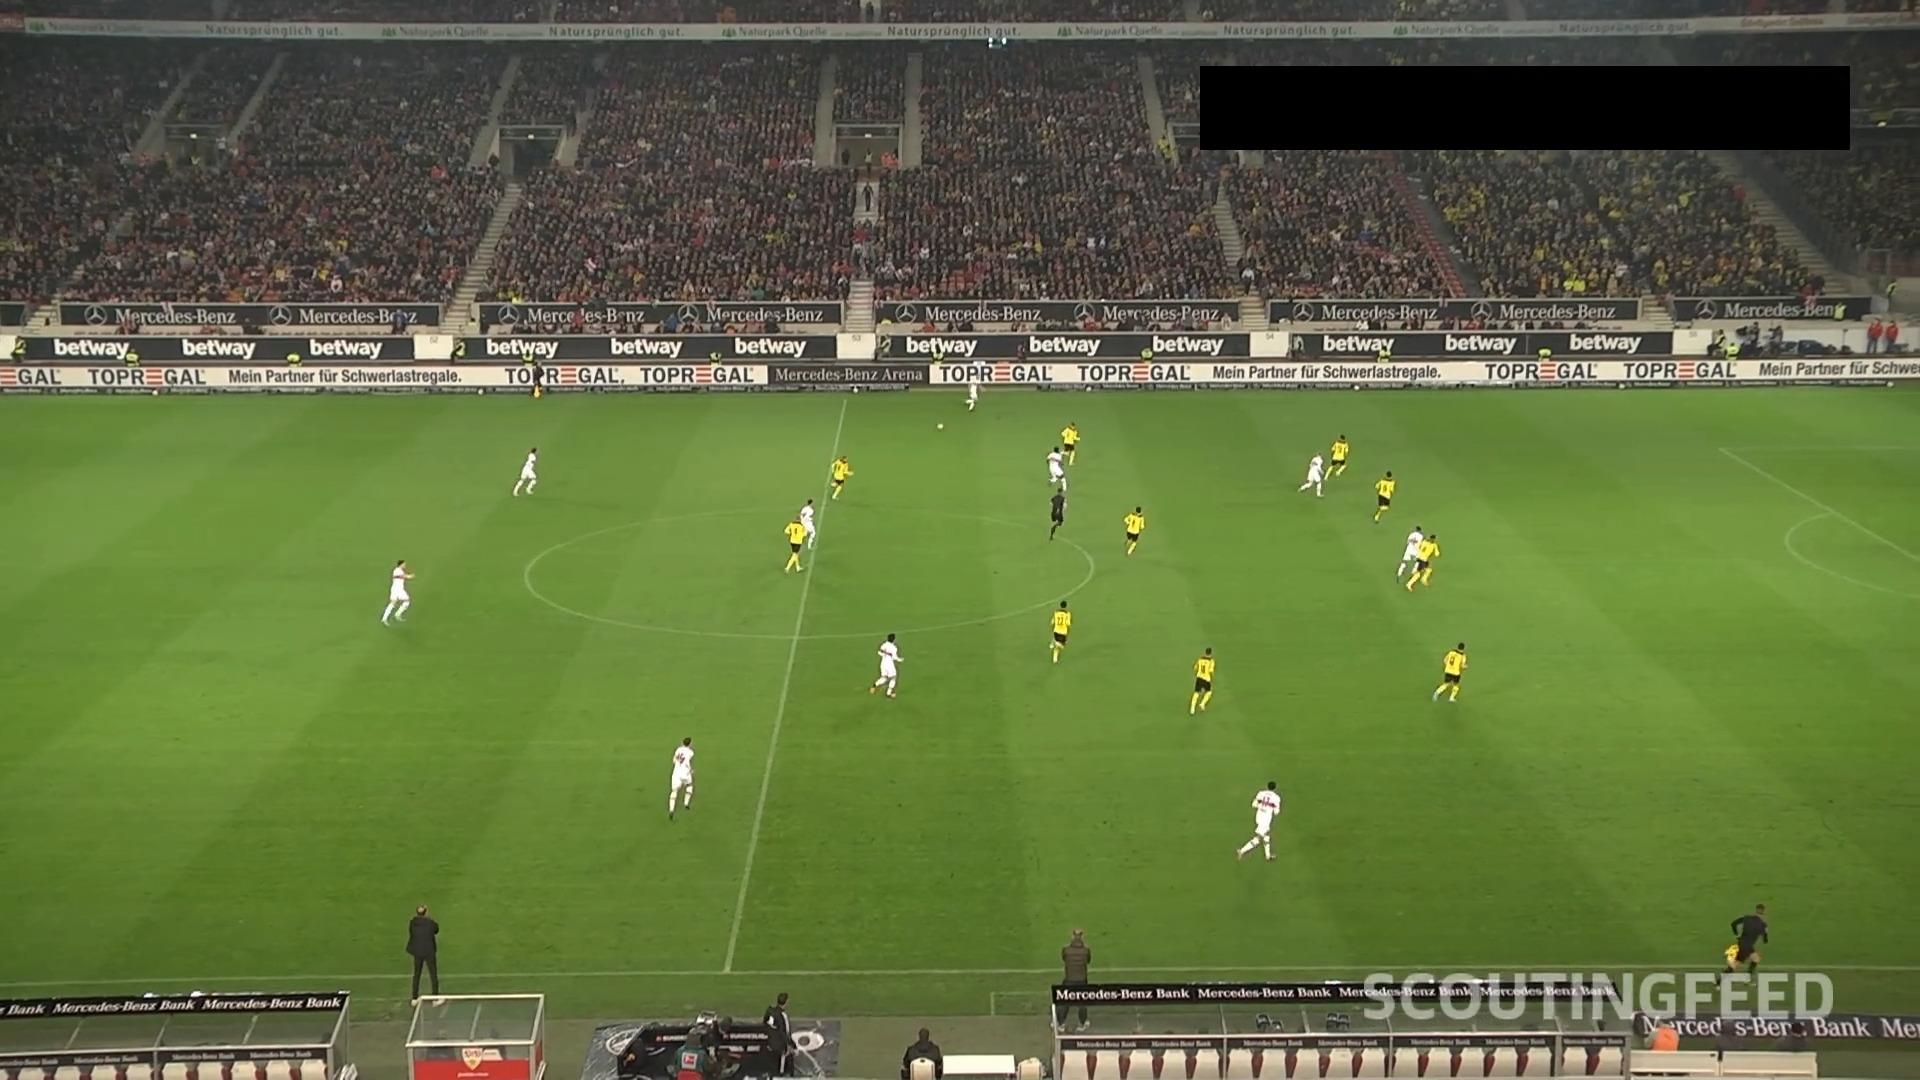ball: (935, 421, 945, 433)
